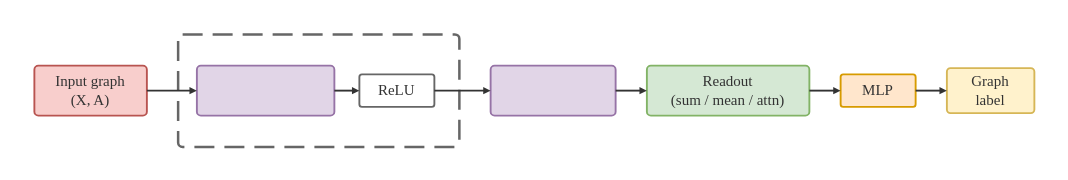
This 1068x180 diagram has some shape labels left out. The box of each missing label's shape, as (x1, y1, x2, y2) in pixels:
GNN layer (message passing): (195, 64, 335, 116)
Node embeddings H: (489, 64, 616, 116)
× L: (176, 32, 460, 148)
